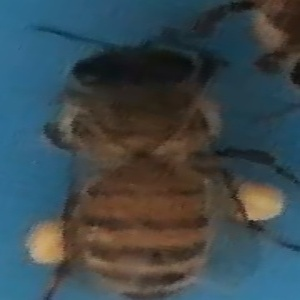bee: (12, 25, 280, 300), (210, 1, 300, 86)
